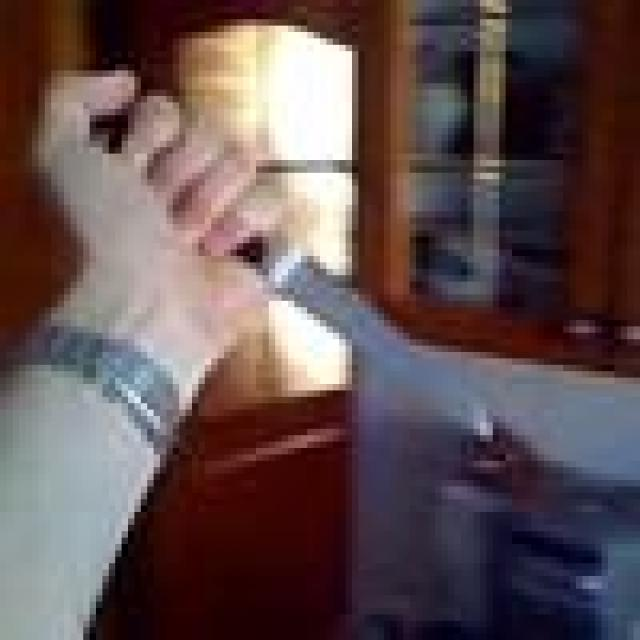knife: (264, 253, 490, 428)
